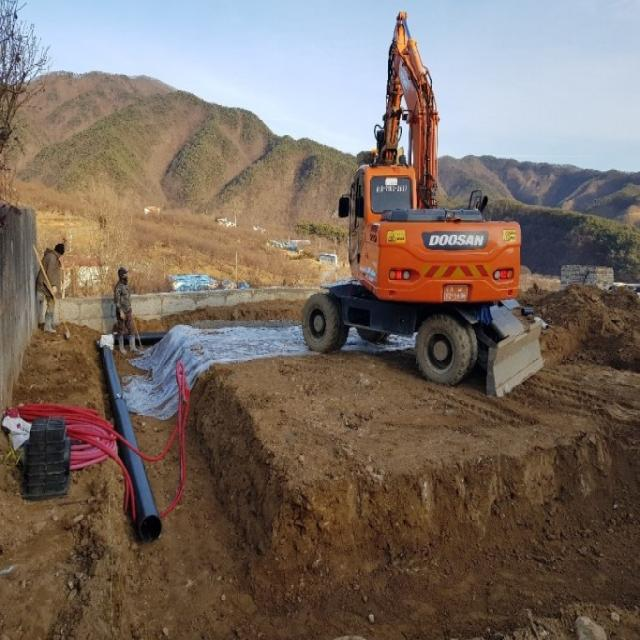excavator: (301, 11, 545, 398)
